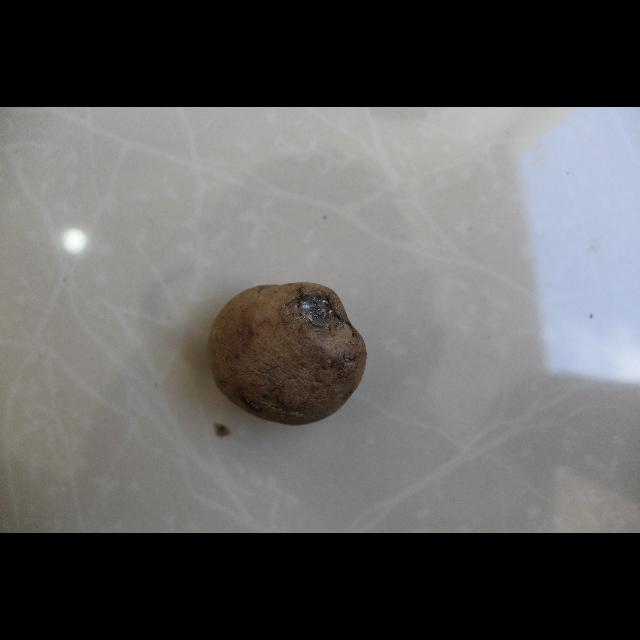Diseased-fungal potato: (208, 282, 368, 428)
